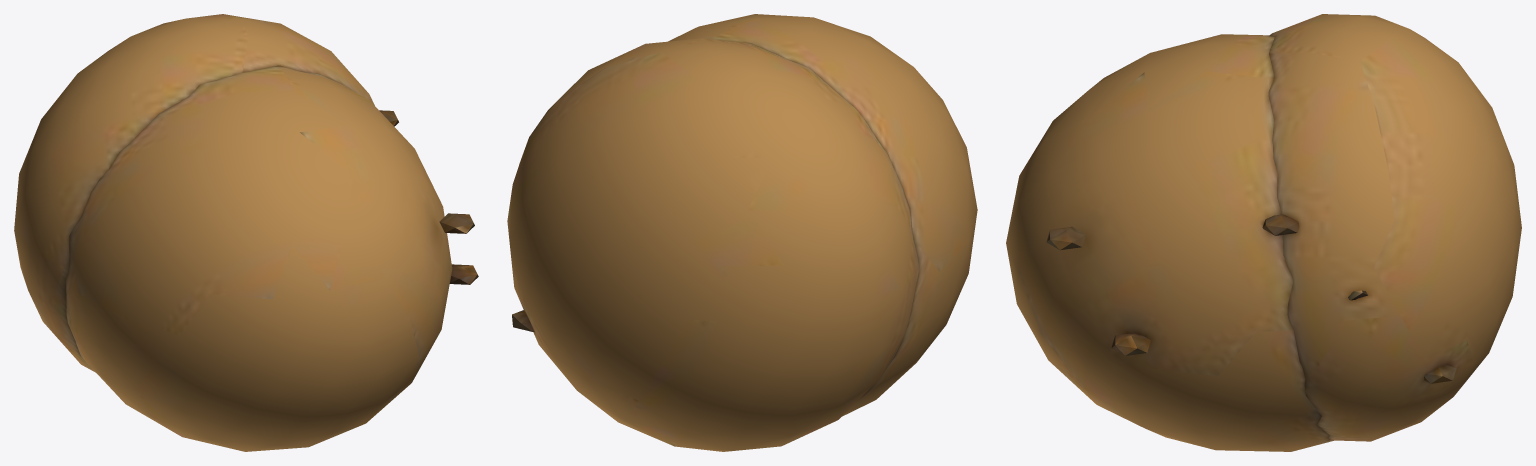
Rendered from patata_rodante.glb.
3 views of the same model, side by side, from view 1: azimuth 30°, elevation 25°; view 2: azimuth 150°, elevation 25°; view 3: azimuth 270°, elevation 25° (orthographic). The views are drawn at different scales.
Visible parts, largest first — view 1: patata_rodante; view 2: patata_rodante; view 3: patata_rodante.
Boxes of the visible parts, bbox=[...] form: patata_rodante: bbox=[14, 14, 478, 451]; patata_rodante: bbox=[507, 14, 977, 451]; patata_rodante: bbox=[1006, 14, 1521, 451].
Bounding box in the file's own units: 0.832 × 0.84 × 0.9785.
1 material, 1 textured.
